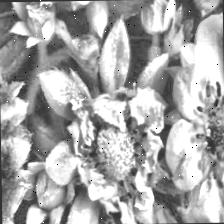Blossom Blight: (78, 106, 150, 203), (192, 79, 224, 186)
